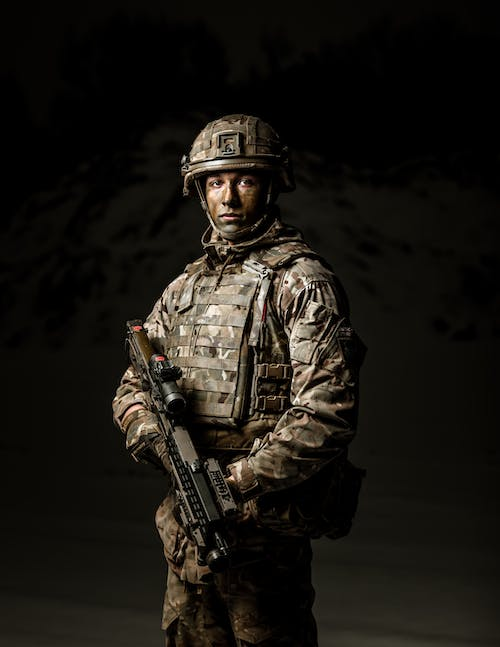gun: (119, 314, 242, 583)
